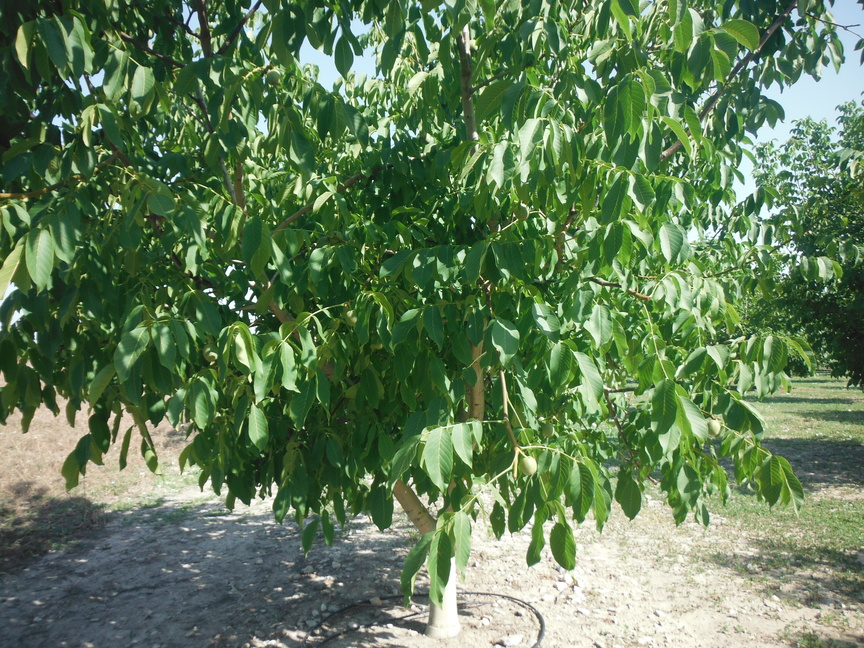walnut: (201, 339, 223, 366), (517, 454, 540, 478), (512, 201, 532, 223), (263, 67, 283, 88), (538, 421, 559, 439), (706, 417, 723, 437), (209, 409, 224, 427), (314, 235, 332, 250), (329, 228, 345, 244), (143, 26, 156, 41), (372, 339, 387, 352), (468, 36, 479, 53)
